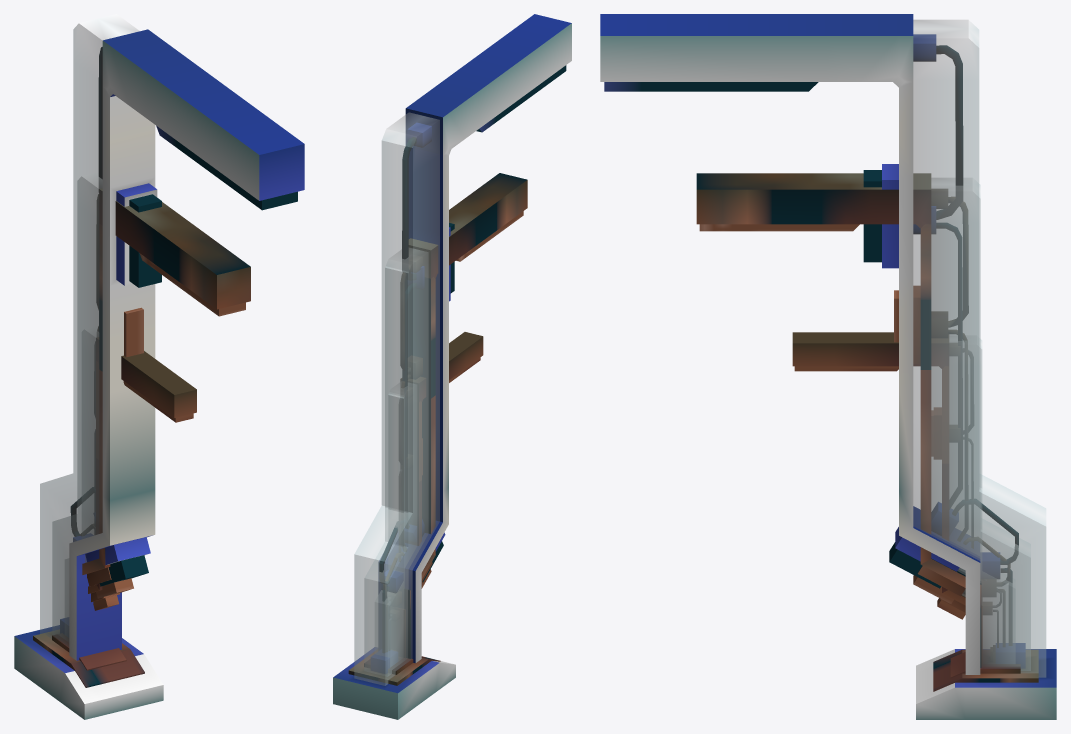
File: lamp-003.gltf
3 renders of one model, left to right at view 1: azimuth 30°, elevation 25°; view 2: azimuth 150°, elevation 25°; view 3: azimuth 270°, elevation 25°, orthographic. The views are drawn at different scales.
Parts seen in each view (by area): view 1: _MeshInstance3D_580, _MeshInstance3D_579, Cube1; view 2: _MeshInstance3D_580, _MeshInstance3D_579, Cube1; view 3: _MeshInstance3D_580, _MeshInstance3D_579, Cube1.
Part boxes in pixels (x1,y1,x2,y2): _MeshInstance3D_580: (14, 14, 304, 719); _MeshInstance3D_579: (33, 172, 250, 687); Cube1: (52, 337, 196, 670); _MeshInstance3D_580: (333, 14, 571, 719); _MeshInstance3D_579: (348, 173, 527, 685); Cube1: (364, 332, 483, 674); _MeshInstance3D_580: (600, 14, 1056, 719); _MeshInstance3D_579: (696, 173, 1038, 691); Cube1: (792, 332, 1020, 678).
Size of the model in its own units: 18.92 by 155 by 94.67.
6 materials, 3 textured.
